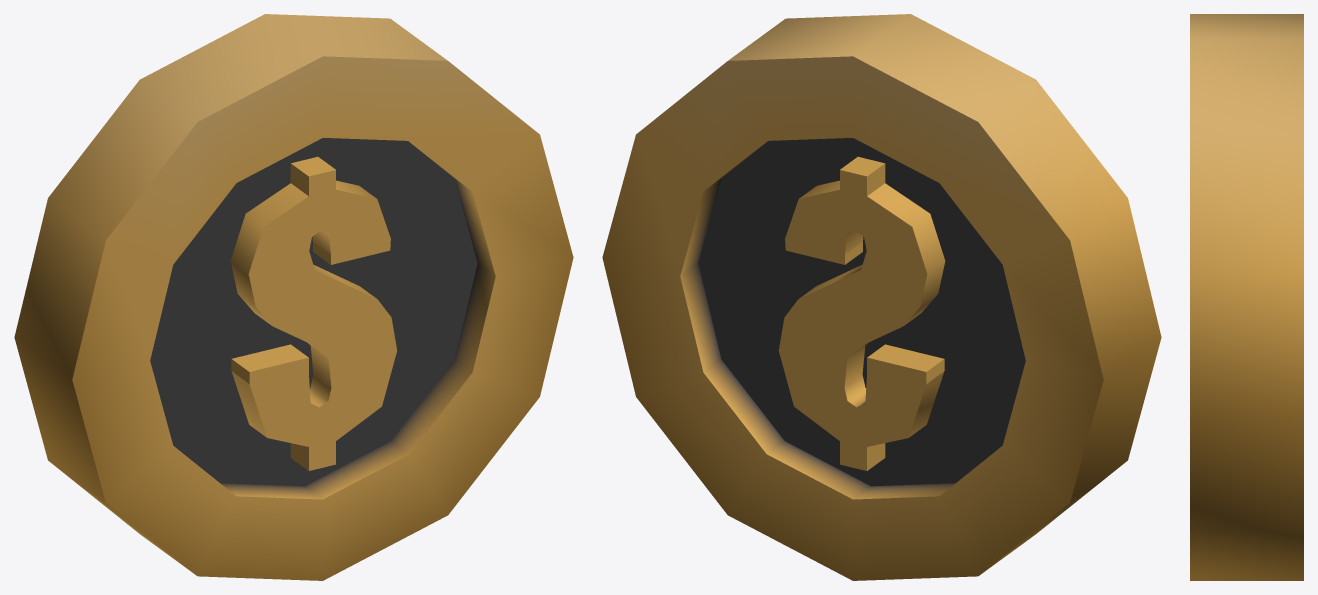
Rendered from Coin.fbx.
3 views of the same model, side by side, from view 1: azimuth 30°, elevation 25°; view 2: azimuth 150°, elevation 25°; view 3: azimuth 270°, elevation 25° (orthographic).
Parts seen in each view (by area): view 1: Coin; view 2: Coin; view 3: Coin.
Boxes of the visible parts, left/top/right/bottom form: Coin: left=14, top=14, right=573, bottom=580; Coin: left=602, top=14, right=1161, bottom=580; Coin: left=1190, top=14, right=1303, bottom=580.
Bounding box in the file's own units: 100 × 100 × 20.
